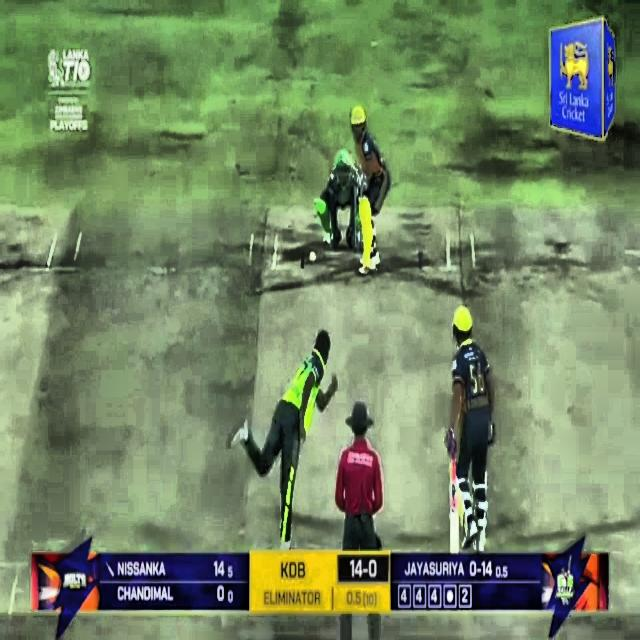Left-stump: (354, 188, 357, 254)
Middle-stump: (359, 222, 362, 254)
